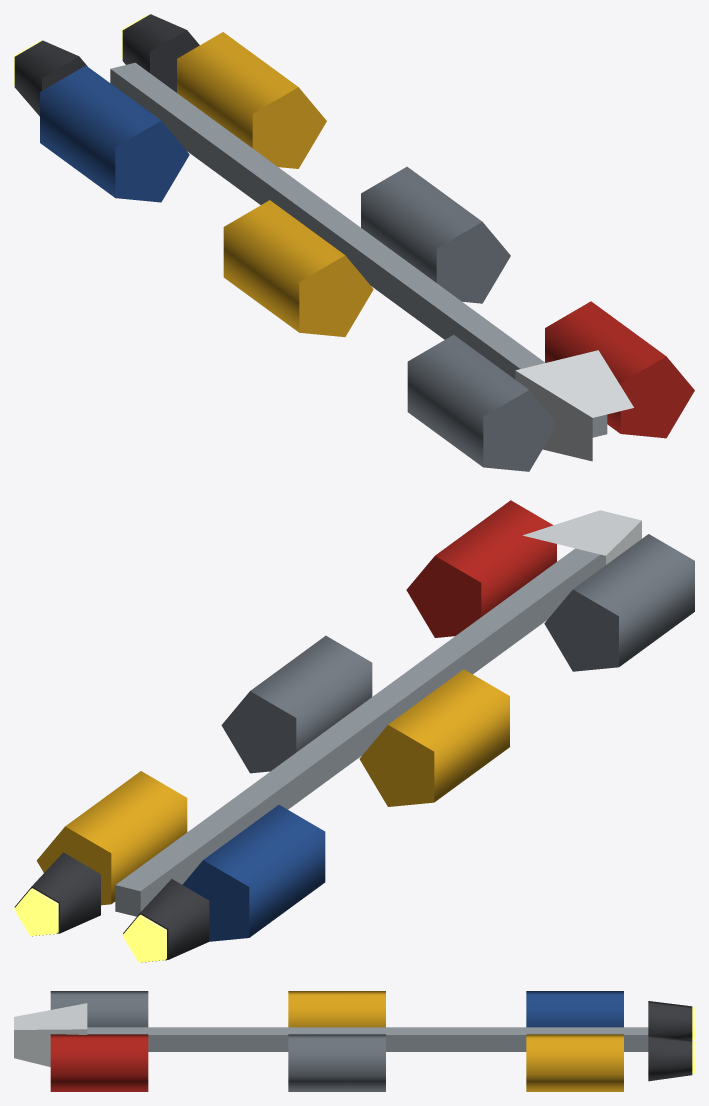
File: space_ship_logistics_mk1_lod1.glb
The picture shows the model from 3 angles, top to bottom: view 1: azimuth 30°, elevation 25°; view 2: azimuth 150°, elevation 25°; view 3: azimuth 270°, elevation 25°; orthographic projection. The views are drawn at different scales.
Parts seen in each view (by area): view 1: body, pod_1_0, pod_2_0, pod_0_0, pod_1_1, pod_0_1, pod_2_1, engine_0, engine_1; view 2: body, pod_2_0, pod_1_0, pod_0_0, pod_1_1, pod_2_1, pod_0_1, engine_1, engine_0; view 3: body, pod_2_1, pod_0_1, pod_1_1, pod_0_0, pod_1_0, pod_2_0, engine_0, engine_1.
Boxes of the visible parts, x1,y1,x2,y2 form: body: (110,62,633,461); pod_1_0: (223,200,373,336); pod_2_0: (407,335,553,471); pod_0_0: (40,65,189,202); pod_1_1: (361,166,510,303); pod_0_1: (177,32,326,168); pod_2_1: (545,301,694,438); engine_0: (122,14,199,92); engine_1: (14,40,87,116); body: (115,510,641,916); pod_2_0: (544,534,694,671); pod_1_0: (359,669,509,806); pod_0_0: (182,805,325,941); pod_1_1: (221,635,372,773); pod_2_1: (406,500,556,637); pod_0_1: (36,771,187,905); engine_1: (122,879,209,962); engine_0: (14,852,100,936); body: (14,1003,648,1066); pod_2_1: (50,1034,148,1091); pod_0_1: (526,1034,623,1091); pod_1_1: (288,1034,385,1091); pod_0_0: (526,991,623,1027); pod_1_0: (288,991,385,1027); pod_2_0: (50,991,148,1027); engine_0: (648,1035,694,1081); engine_1: (648,1001,694,1040).
Size of the model in its own units: 6.74 by 2.49 by 29.03.
